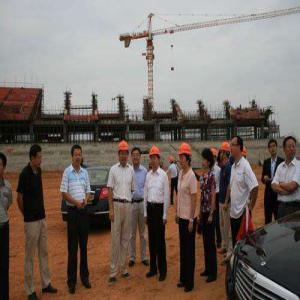none: (283, 135, 297, 162), (231, 136, 245, 161), (31, 145, 44, 170), (72, 145, 83, 170), (202, 150, 215, 171), (269, 137, 280, 159), (132, 148, 141, 168), (2, 153, 8, 180)
yellow: (179, 142, 193, 171), (118, 140, 132, 167), (149, 146, 162, 171), (220, 142, 231, 162)
